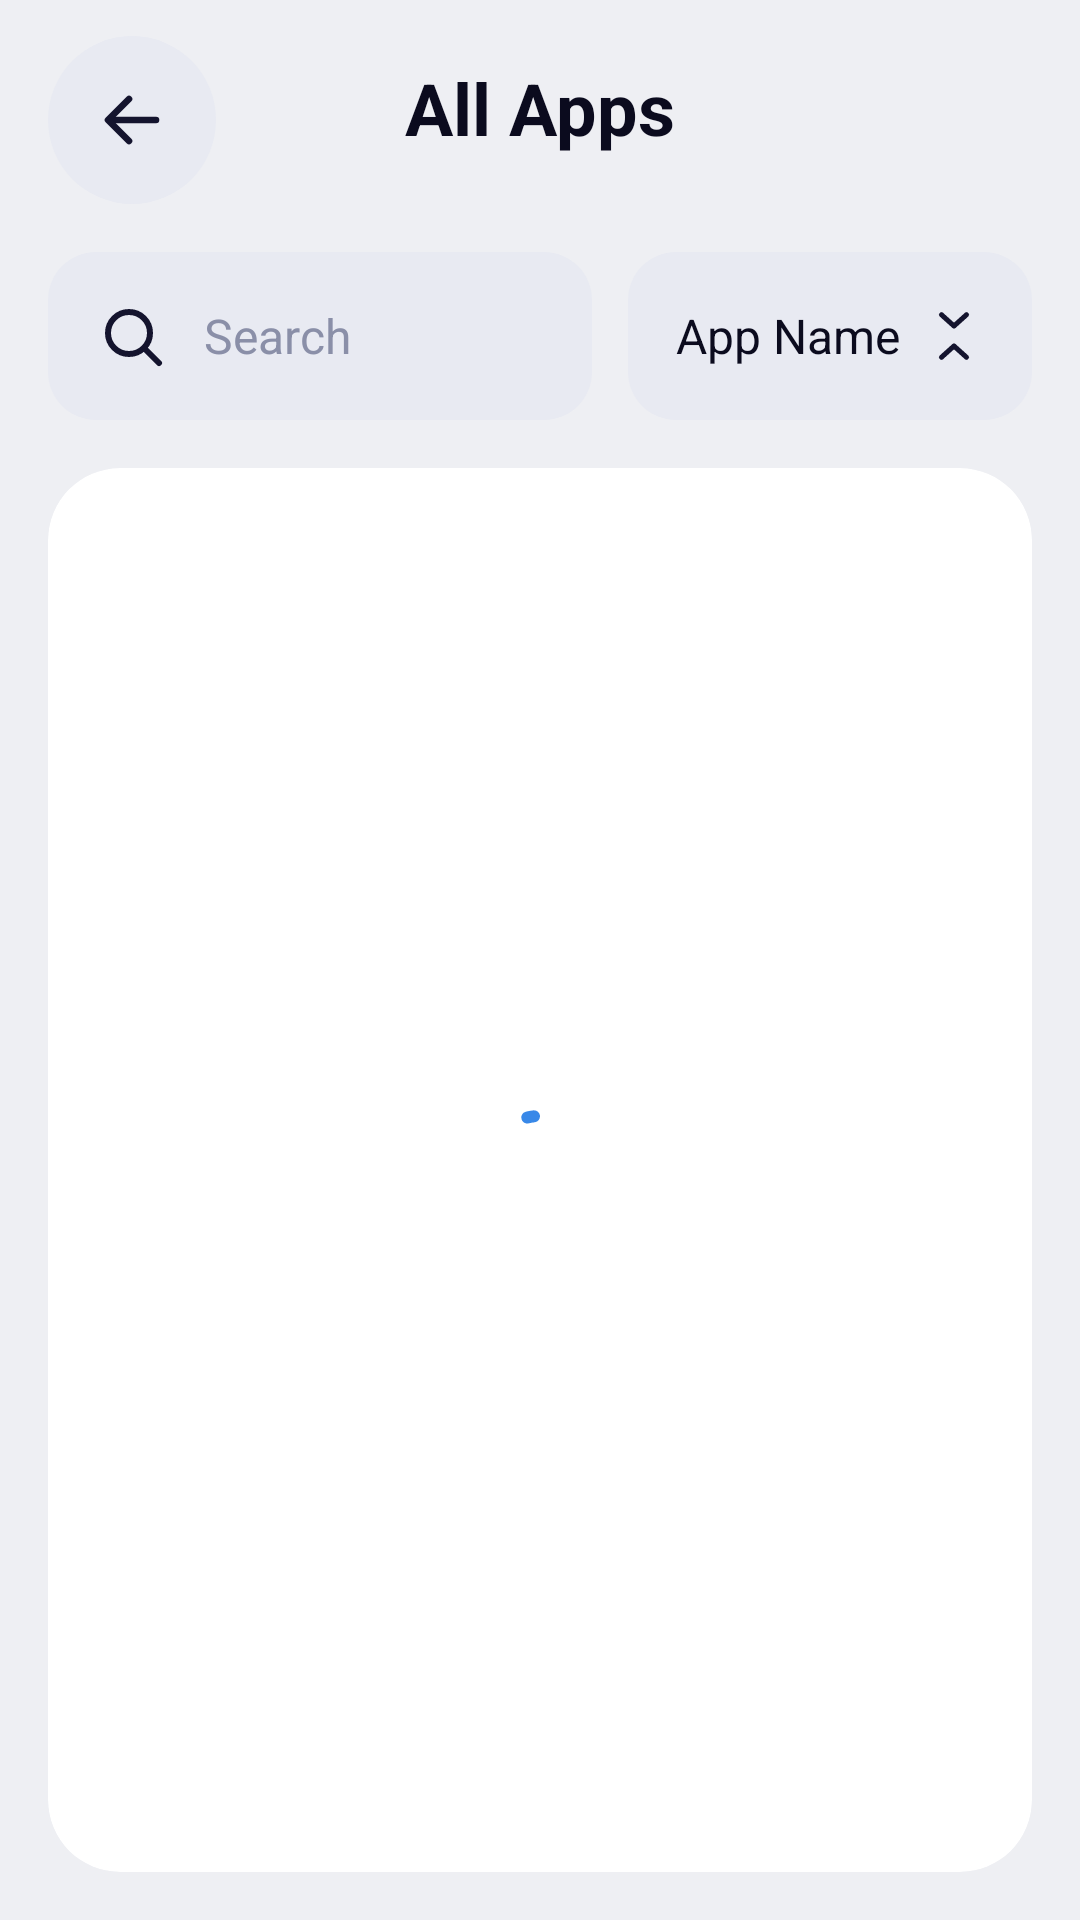

Icons on this 1080px×1920px Android screen, each with the point to tap as [x,y]:
Back: [132,120]
sort: [954,336]
